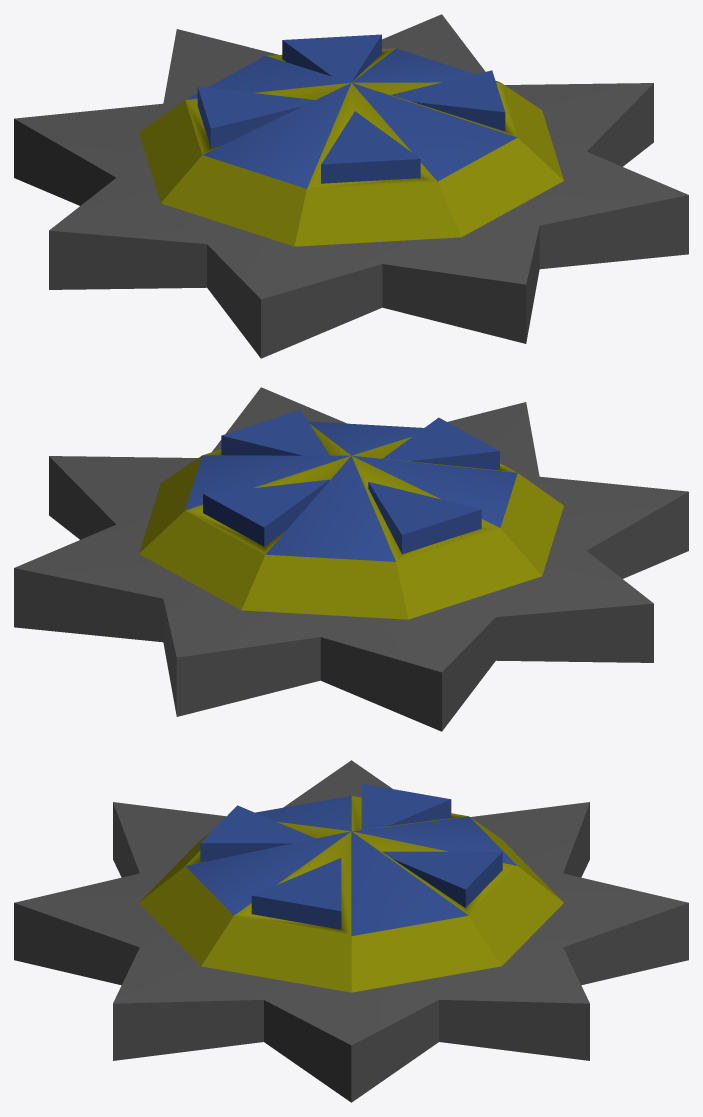
The model's file is BeGoal2.fbx.
The picture shows the model from 3 angles, top to bottom: view 1: azimuth 30°, elevation 25°; view 2: azimuth 150°, elevation 25°; view 3: azimuth 270°, elevation 25°; orthographic projection. The views are drawn at different scales.
Parts seen in each view (by area): view 1: pCylinder4; view 2: pCylinder4; view 3: pCylinder4.
Part boxes in pixels (left/top/right/bottom): pCylinder4: left=14, top=14, right=688, bottom=358; pCylinder4: left=14, top=387, right=688, bottom=731; pCylinder4: left=14, top=760, right=688, bottom=1102.
Size of the model in its own units: 3.2 by 0.6744 by 3.2.
